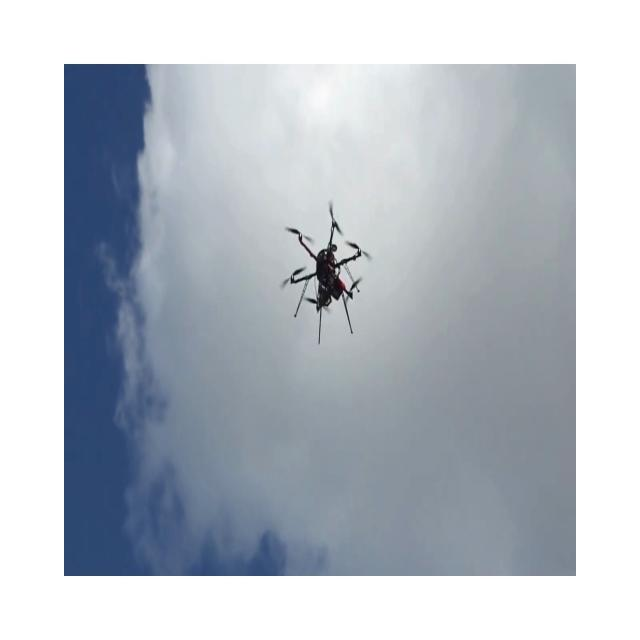drone: (280, 199, 371, 344)
